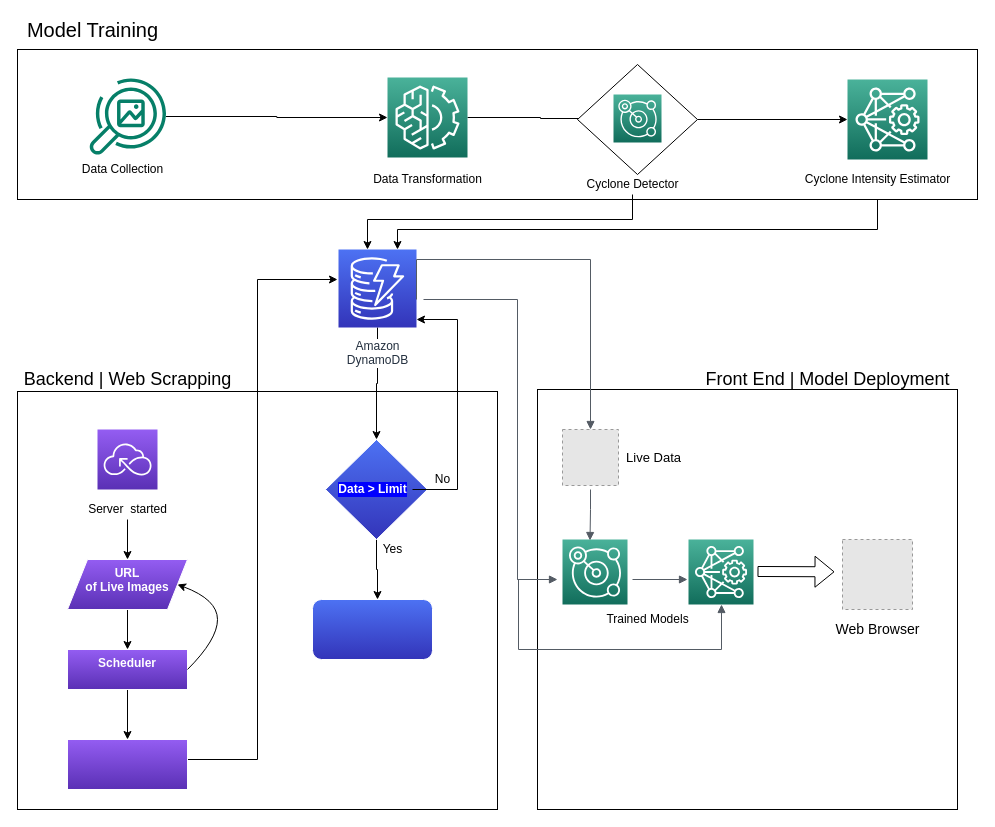
Image size: 995x827. Some labels were removed from this diagram. Grey dashed boxes stand in for pictures. Here are the shapes that lost their labels. From the top down, the centre of each, then its label:
[372,629]: Delete
[127,764]: Scrapping Tool
